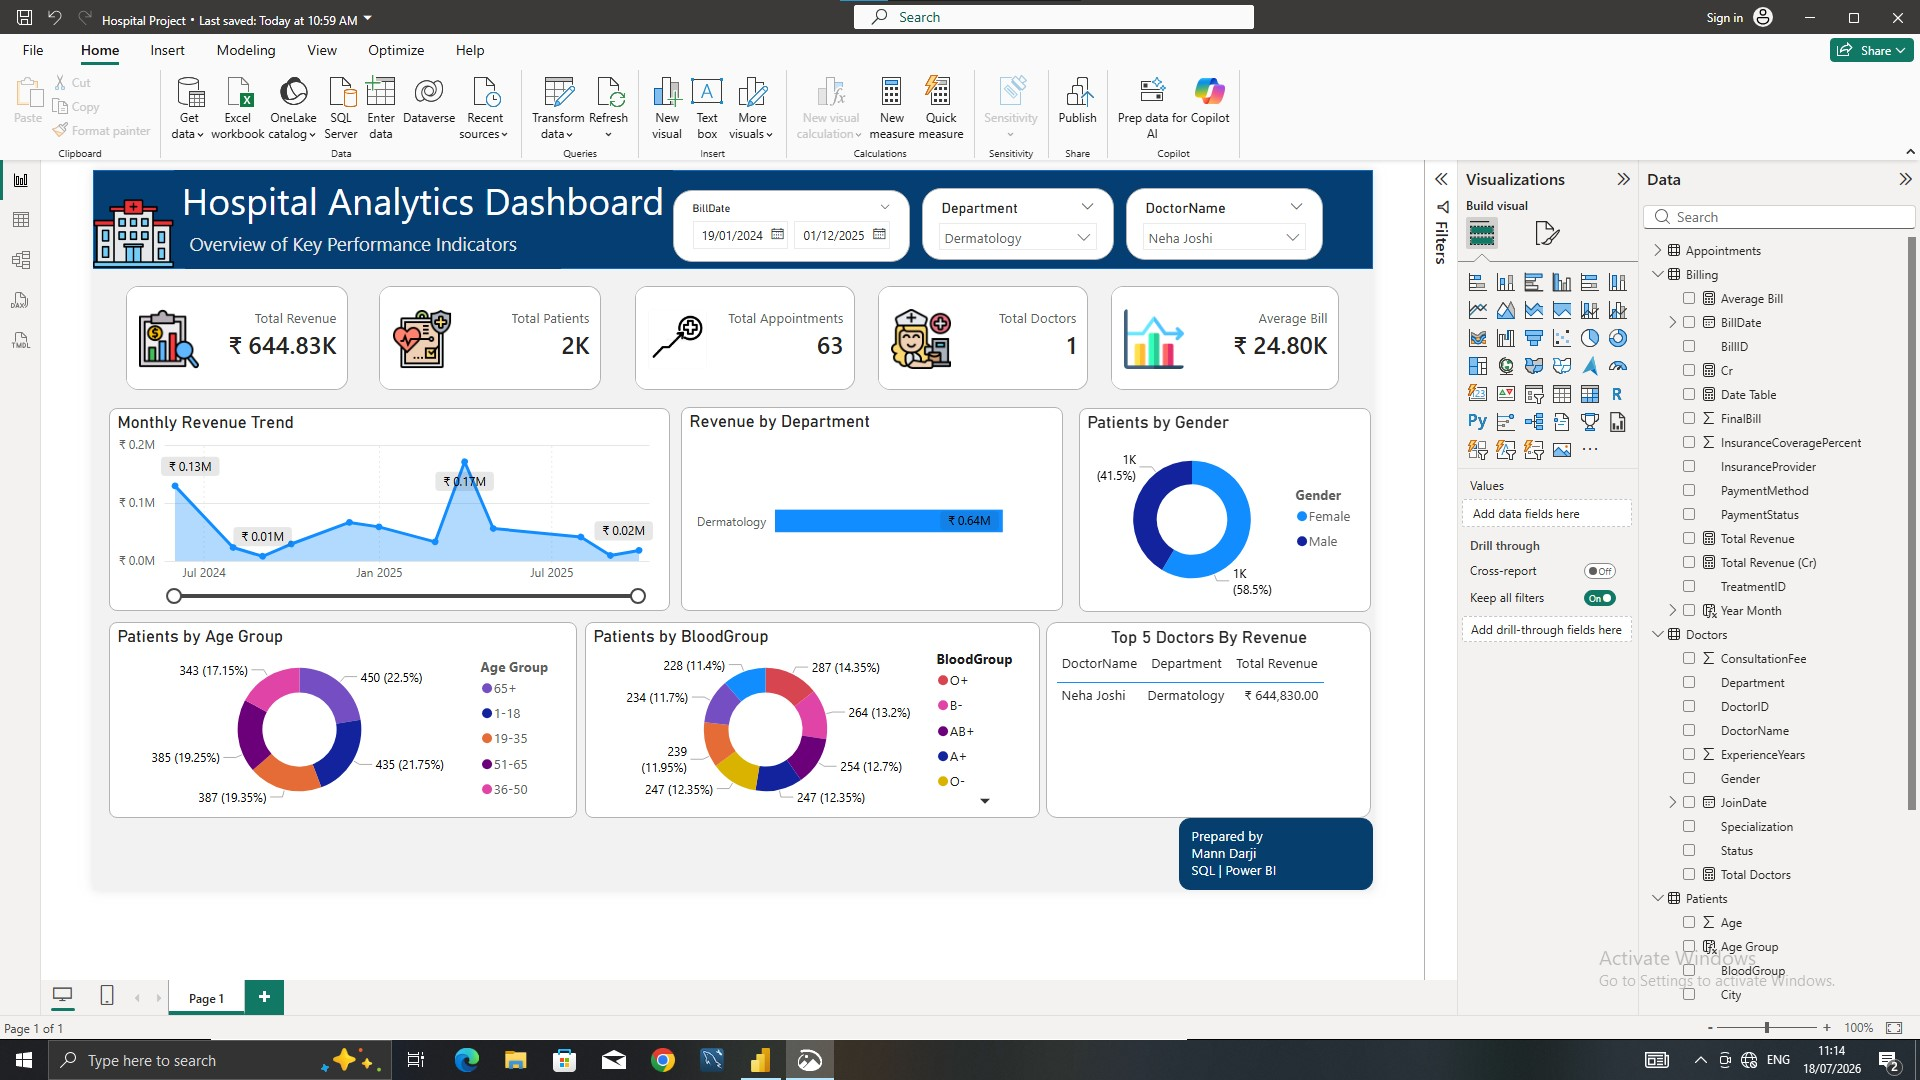

What the dashboard file says about the page in this screenshot:
{"tool":"powerbi","page":{"name":"Page 1","canvas":[1280,720],"ordinal":0},"visuals":[{"type":"cardVisual","fields":{"Data":["Billing.Total Revenue"]},"box":[16,99,256,138],"z":0},{"type":"shape","box":[0,0,1280,99],"z":1000},{"type":"textbox","box":[81,0,499,64],"z":2000},{"type":"image","box":[0,14,81,99],"z":3000},{"type":"textbox","box":[92,56,376,43],"z":4000},{"type":"cardVisual","fields":{"Data":["Patients.Total Patients"]},"box":[269,99,256,138],"z":5000},{"type":"cardVisual","fields":{"Data":["Appointments.Total Appointments"]},"box":[525,99,254,138],"z":6000},{"type":"cardVisual","fields":{"Data":["Doctors.Total Doctors"]},"box":[768,99,244,138],"z":7000},{"type":"cardVisual","fields":{"Data":["Billing.Average Bill"]},"box":[1001,99,262,138],"z":8000},{"type":"lineChart","title":"Monthly Revenue Trend","fields":{"Category":["Billing.Year Month"],"Y":["Billing.Total Revenue"]},"box":[16,238,561,203],"z":9000},{"type":"clusteredBarChart","title":"Revenue by Department","fields":{"Y":["Billing.Total Revenue"],"Category":["Doctors.Department"]},"box":[588,237,382,204],"z":10000},{"type":"donutChart","title":"Patients by Gender","fields":{"Category":["Patients.Gender"],"Y":["Patients.Total Patients"]},"box":[986,238,292,204],"z":11000},{"type":"donutChart","title":"Patients by Age Group","fields":{"Y":["Patients.Total Patients"],"Category":["Patients.Age Group"]},"box":[16,452,468,196],"z":12000},{"type":"donutChart","title":"Patients by BloodGroup","fields":{"Category":["Patients.BloodGroup"],"Y":["Patients.Total Patients"]},"box":[492,452,455,196],"z":14000},{"type":"slicer","fields":{"Values":["Billing.BillDate"]},"box":[580,20,237,72],"z":15000},{"type":"slicer","fields":{"Values":["Doctors.Department"]},"box":[829,18,192,72],"z":16000},{"type":"slicer","fields":{"Values":["Doctors.DoctorName"]},"box":[1033,18,197,72],"z":17000},{"type":"tableEx","title":"Top 5 Doctors By Revenue","fields":{"Values":["Doctors.DoctorName","Doctors.Department","Billing.Total Revenue"]},"box":[953,452,325,196],"z":17001},{"type":"shape","box":[1086,648,194,72],"z":17002},{"type":"textbox","box":[1094,652,111,68],"z":17003}]}

Visuals, with their boxes on the page's 1280x720 design canvas (x1, y1, x2, y2). These are canvas units, not pixel positions in the 1920x1080 screenshot, which may show the page scaled, cropped or inside an application window:
cardVisual - Billing.Total Revenue: region(16, 99, 272, 237)
shape: region(0, 0, 1280, 99)
textbox: region(81, 0, 580, 64)
image: region(0, 14, 81, 113)
textbox: region(92, 56, 468, 99)
cardVisual - Patients.Total Patients: region(269, 99, 525, 237)
cardVisual - Appointments.Total Appointments: region(525, 99, 779, 237)
cardVisual - Doctors.Total Doctors: region(768, 99, 1012, 237)
cardVisual - Billing.Average Bill: region(1001, 99, 1263, 237)
"Monthly Revenue Trend" lineChart: region(16, 238, 577, 441)
"Revenue by Department" clusteredBarChart: region(588, 237, 970, 441)
"Patients by Gender" donutChart: region(986, 238, 1278, 442)
"Patients by Age Group" donutChart: region(16, 452, 484, 648)
"Patients by BloodGroup" donutChart: region(492, 452, 947, 648)
slicer - Billing.BillDate: region(580, 20, 817, 92)
slicer - Doctors.Department: region(829, 18, 1021, 90)
slicer - Doctors.DoctorName: region(1033, 18, 1230, 90)
"Top 5 Doctors By Revenue" tableEx: region(953, 452, 1278, 648)
shape: region(1086, 648, 1280, 720)
textbox: region(1094, 652, 1205, 720)
